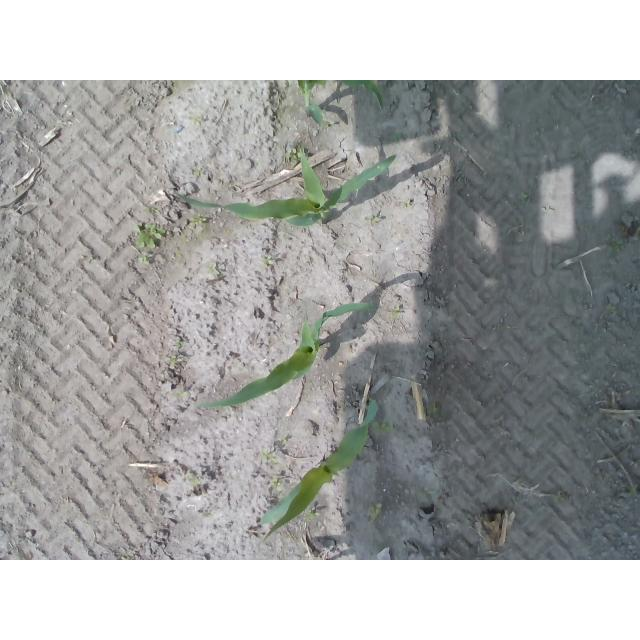Maize: (190, 302, 375, 411), (259, 397, 381, 543), (171, 152, 397, 229), (296, 80, 385, 128)
Weeds: (130, 221, 167, 248), (374, 416, 394, 435), (259, 447, 281, 464), (608, 235, 624, 254), (368, 503, 382, 522), (192, 211, 208, 225), (207, 263, 221, 276), (286, 147, 299, 161), (606, 303, 619, 317), (366, 213, 382, 224), (259, 255, 274, 266), (137, 255, 151, 266), (143, 206, 162, 214), (419, 487, 434, 497), (626, 485, 638, 496), (390, 306, 401, 317), (517, 191, 528, 202), (392, 133, 405, 142), (306, 511, 320, 519), (270, 480, 281, 489), (194, 167, 203, 176), (169, 356, 175, 369)
